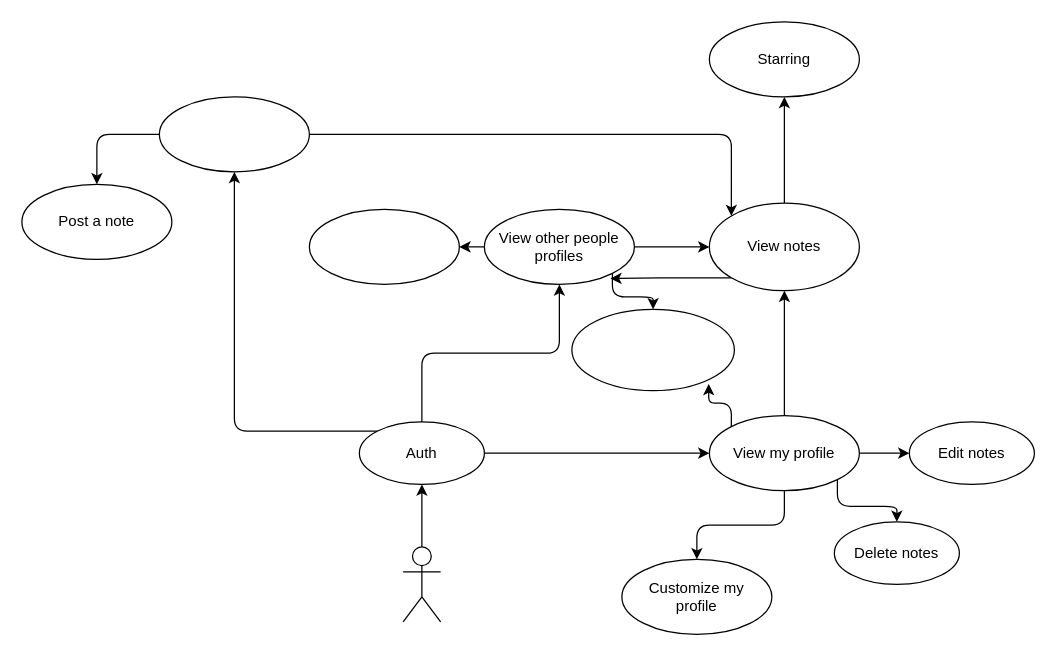
Image size: 1056x670. Some labels were removed from this diagram. Each missing label, with the box of its shape:
Followage: (308, 208, 459, 284)
User: (402, 546, 441, 622)
View "estampillas" book: (571, 308, 734, 391)
View home page: (158, 96, 309, 172)
